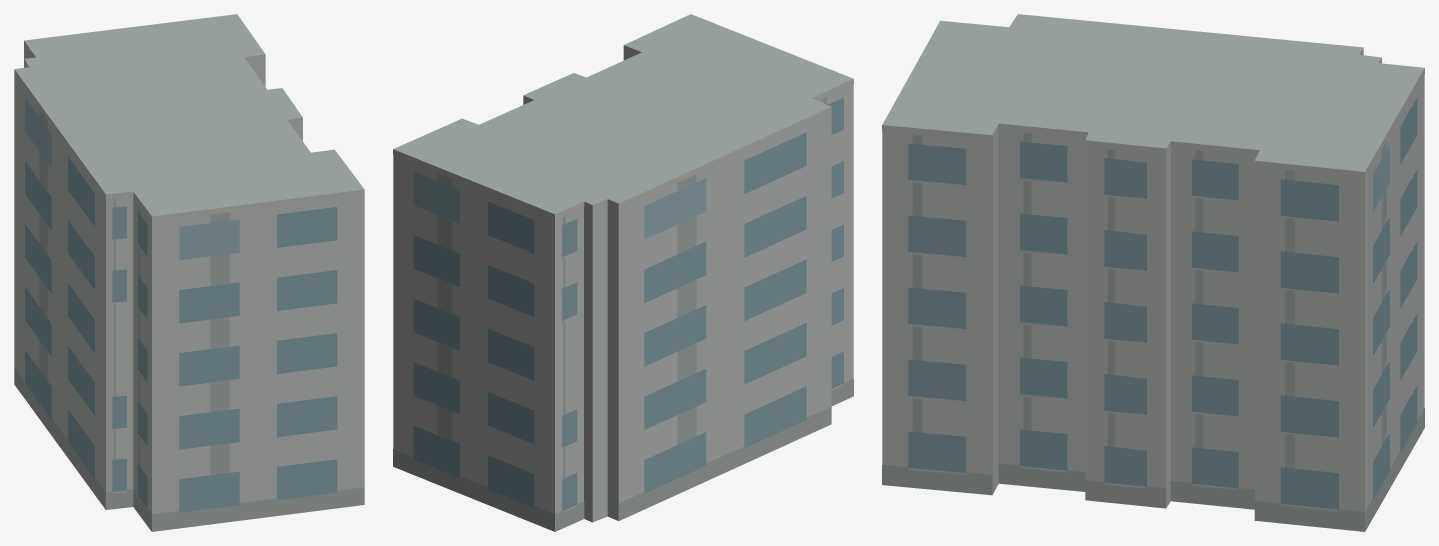
The model's file is survey-upis-33022299.glb.
3 views of the same model, side by side, from view 1: azimuth 30°, elevation 25°; view 2: azimuth 150°, elevation 25°; view 3: azimuth 270°, elevation 25° (orthographic). The views are drawn at different scales.
Visible parts, largest first — view 1: survey-upis-33022299.tmp; view 2: survey-upis-33022299.tmp; view 3: survey-upis-33022299.tmp.
Boxes of the visible parts, box(x1,y1,x2,y2) form: survey-upis-33022299.tmp: box(14, 14, 364, 531); survey-upis-33022299.tmp: box(393, 14, 853, 531); survey-upis-33022299.tmp: box(882, 14, 1424, 531).
Bounding box in the file's own units: 12.71 × 13.5 × 18.45.
